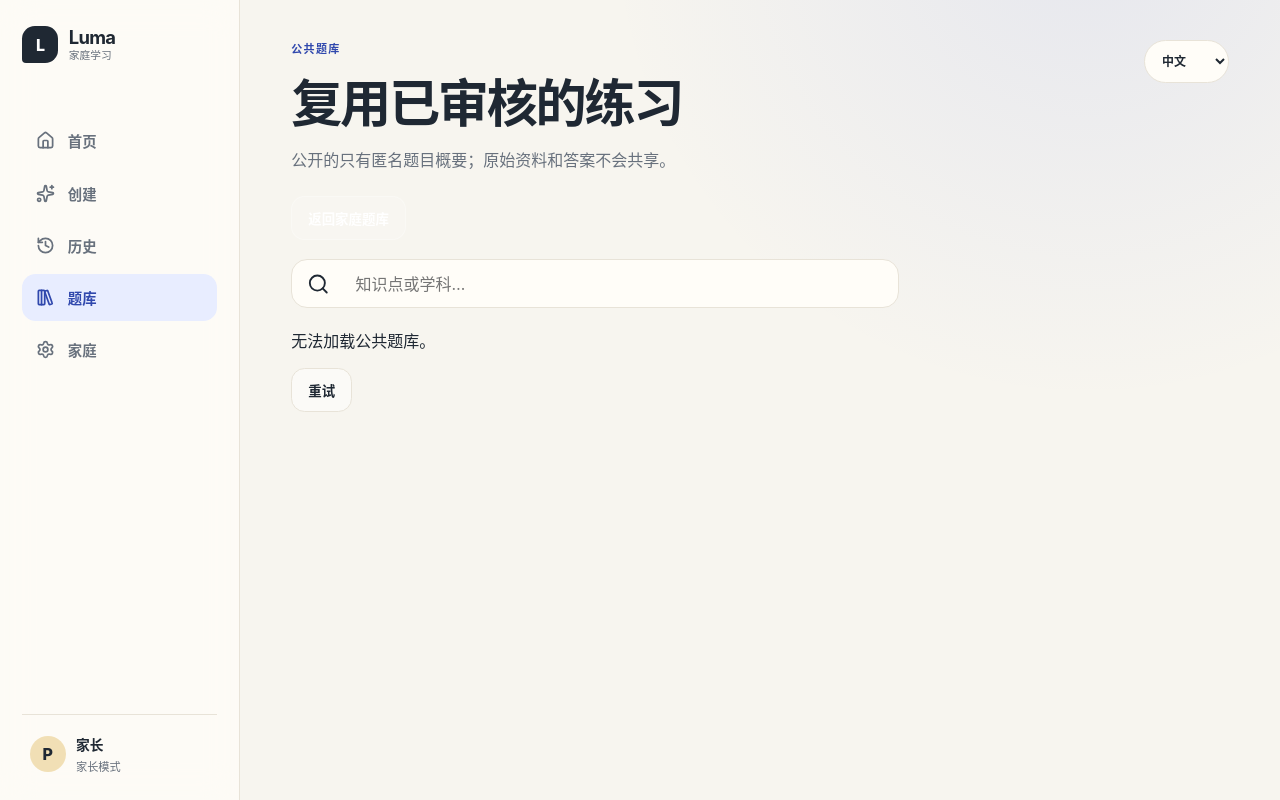
Test: PublicLibraryPage › retries loading the public library without retaining stale items
Expected: the message shows "无法加载公共题库。", [291,330,435,350]
What coordinates should you click on to do the following:
click the button "重试"
I would click on:
 (322, 390)
Its box is [291,368,352,412].
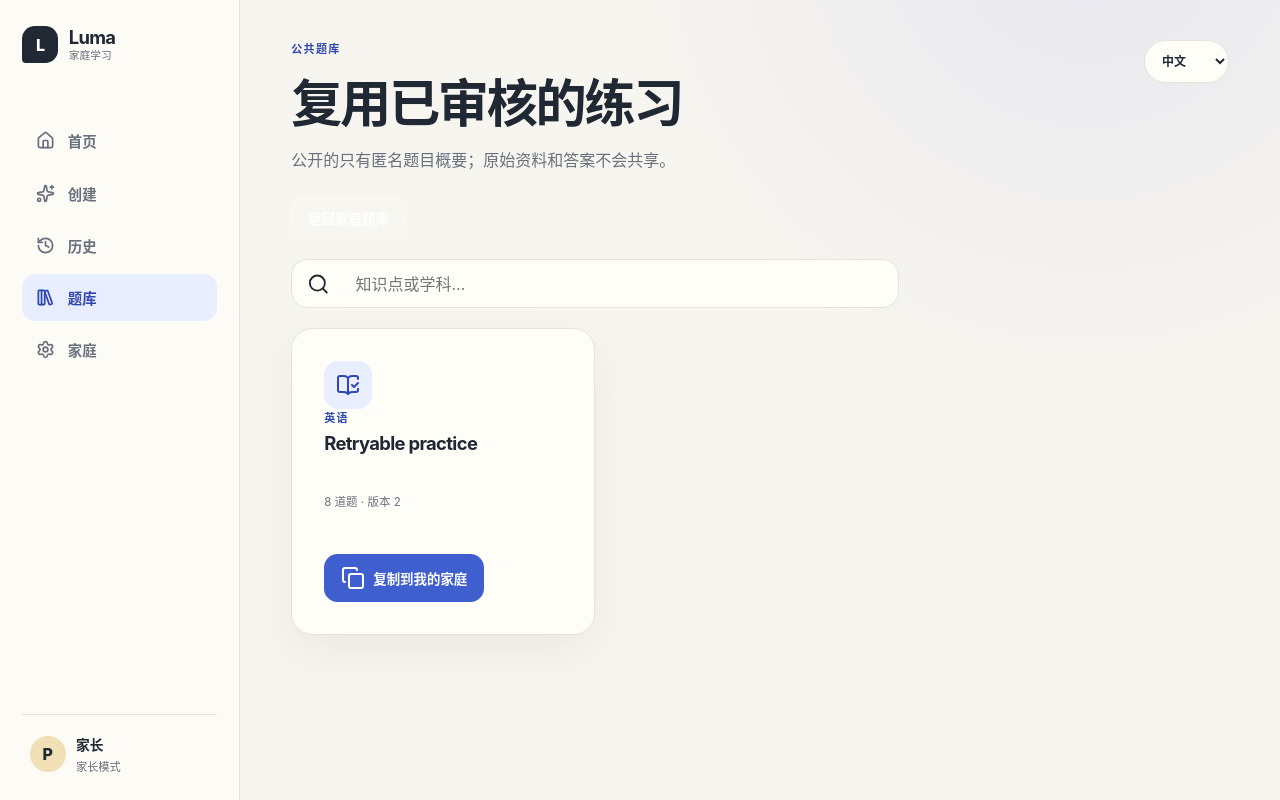
Expected: the heading "Retryable practice" is shown, [324,432,477,454]
